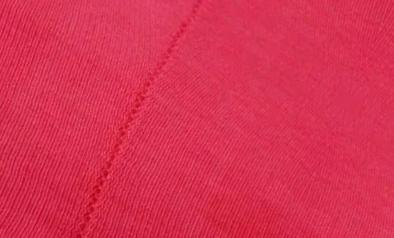slub: (76, 1, 202, 238)
